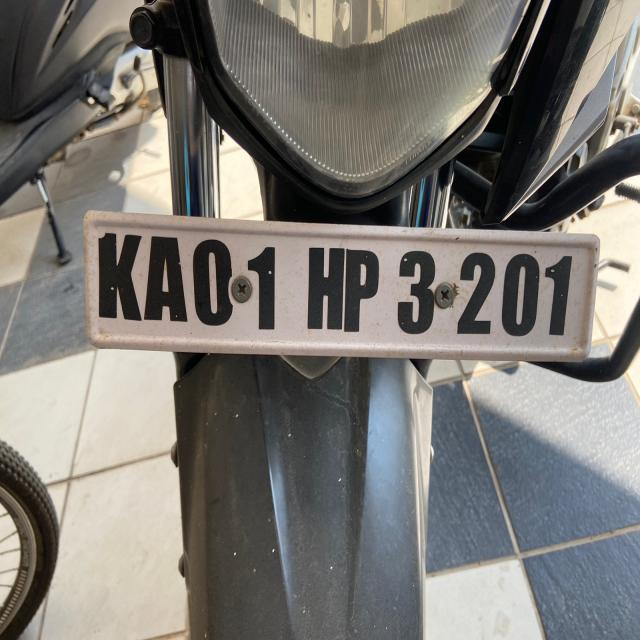0: (191, 238, 244, 336), (502, 248, 545, 351)
1: (242, 239, 290, 334), (542, 250, 574, 352)
3: (390, 249, 445, 348)
A: (144, 227, 193, 336)
H: (301, 238, 346, 340)
K: (94, 228, 146, 330)
P: (345, 239, 387, 336)
